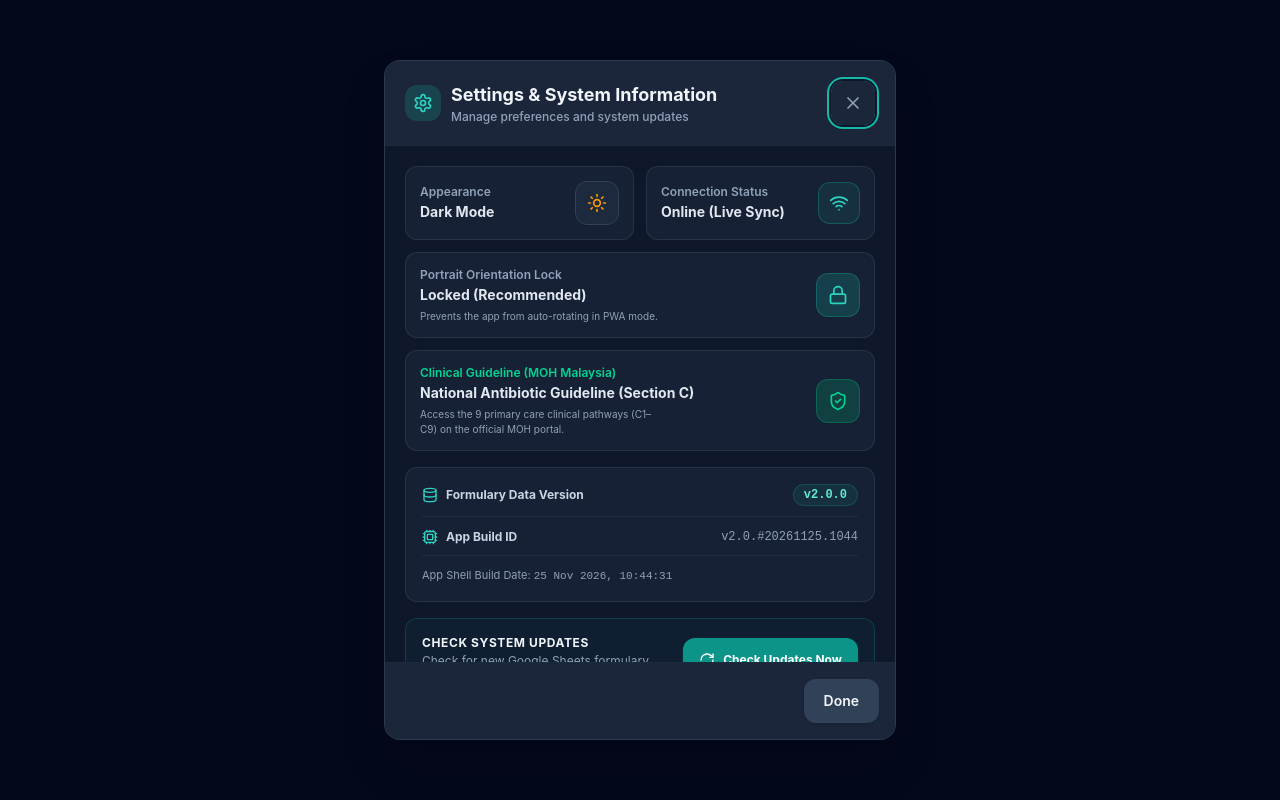
Test: SettingsDialog component › handles update check error feedback
Step 1. Click the button named "Check for updates" → (771, 660), box [683, 638, 858, 682]
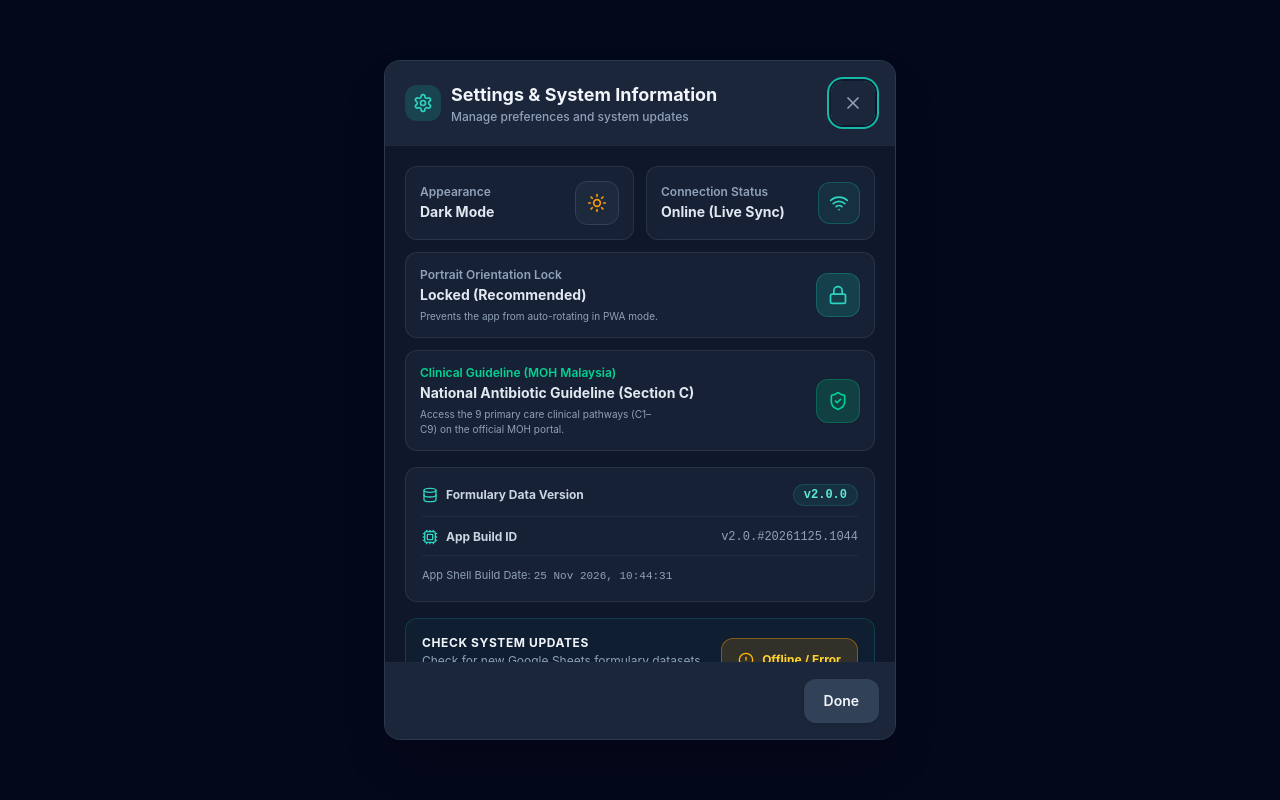
expect the text "Offline / Error" is shown: met, box [762, 652, 841, 662]
